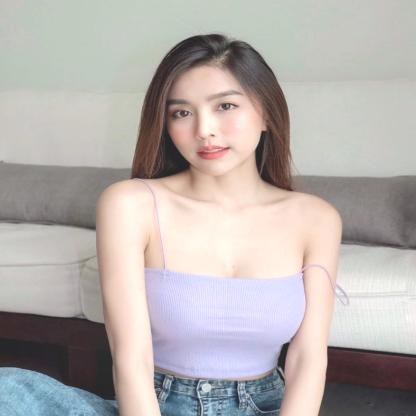jacket: (130, 170, 304, 382)
